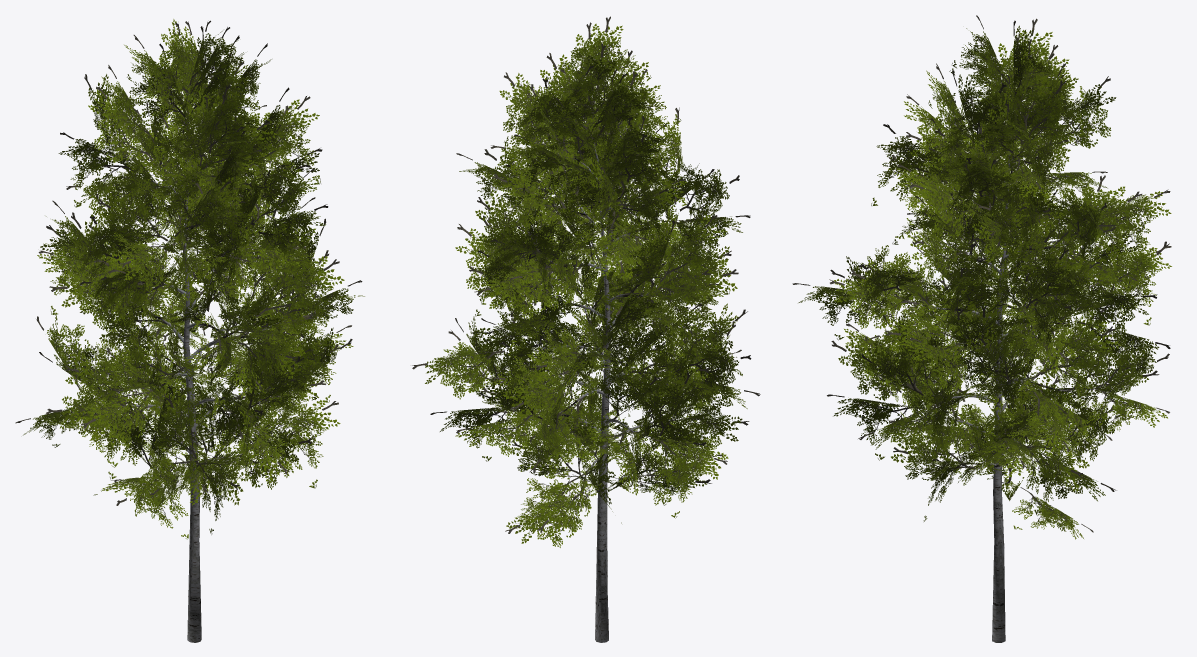
The model's file is birch.glb.
3 renders of one model, left to right at view 1: azimuth 30°, elevation 25°; view 2: azimuth 150°, elevation 25°; view 3: azimuth 270°, elevation 25°, orthographic.
Parts seen in each view (by area): view 1: birch; view 2: birch; view 3: birch.
Boxes of the visible parts, x1=… form: birch: x1=15, y1=19, x2=364, y2=642; birch: x1=412, y1=16, x2=760, y2=642; birch: x1=792, y1=15, x2=1171, y2=642.
Size of the model in its own units: 9.04 by 17 by 9.61.
2 materials, 2 textured.
